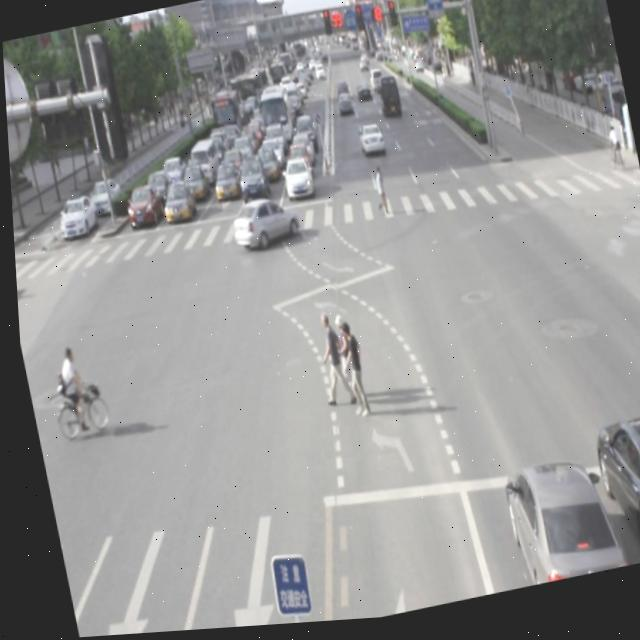car: (491, 459, 613, 595), (581, 416, 640, 577), (224, 196, 298, 256)
